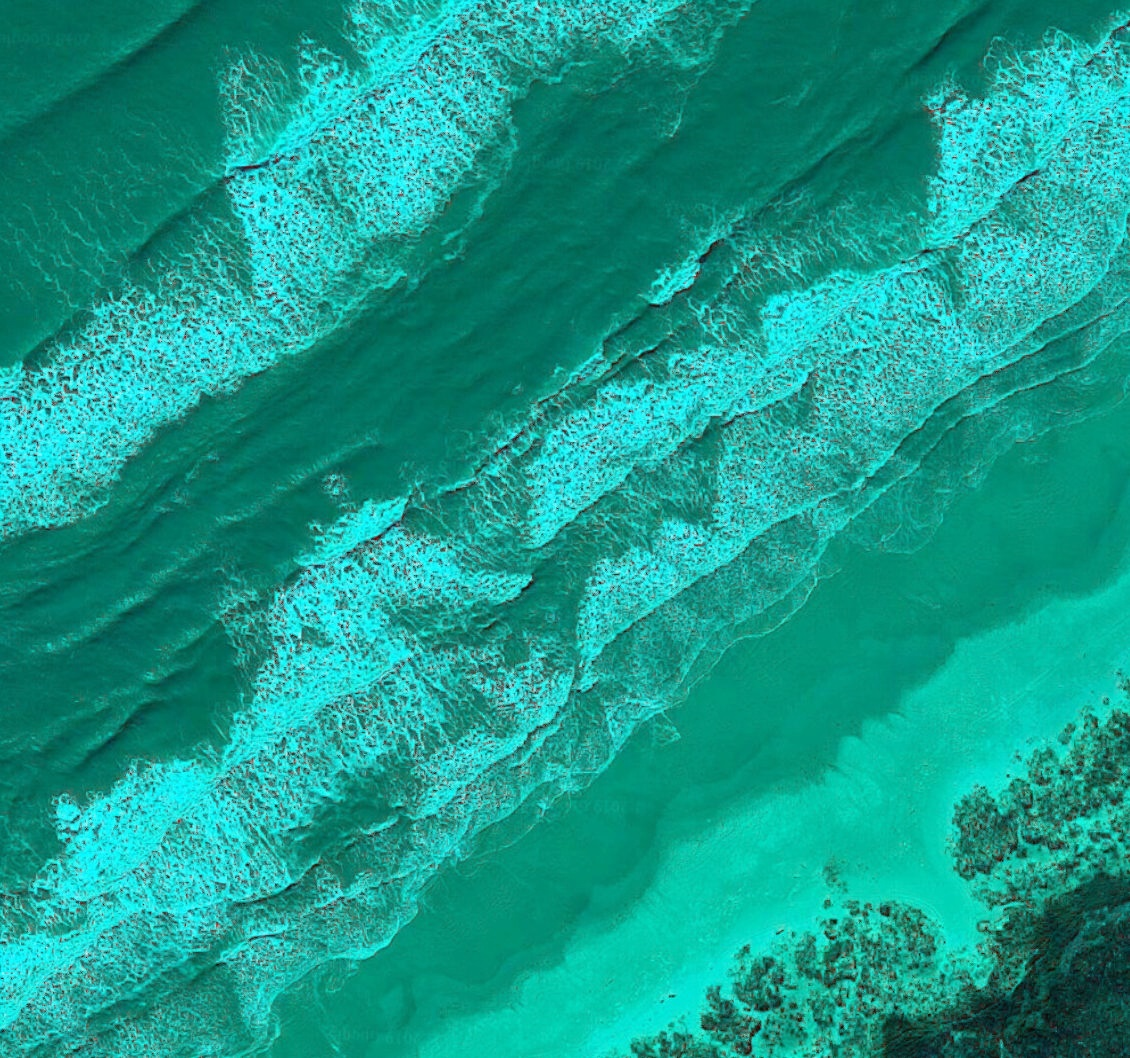rip_current: (393, 452, 606, 677)
